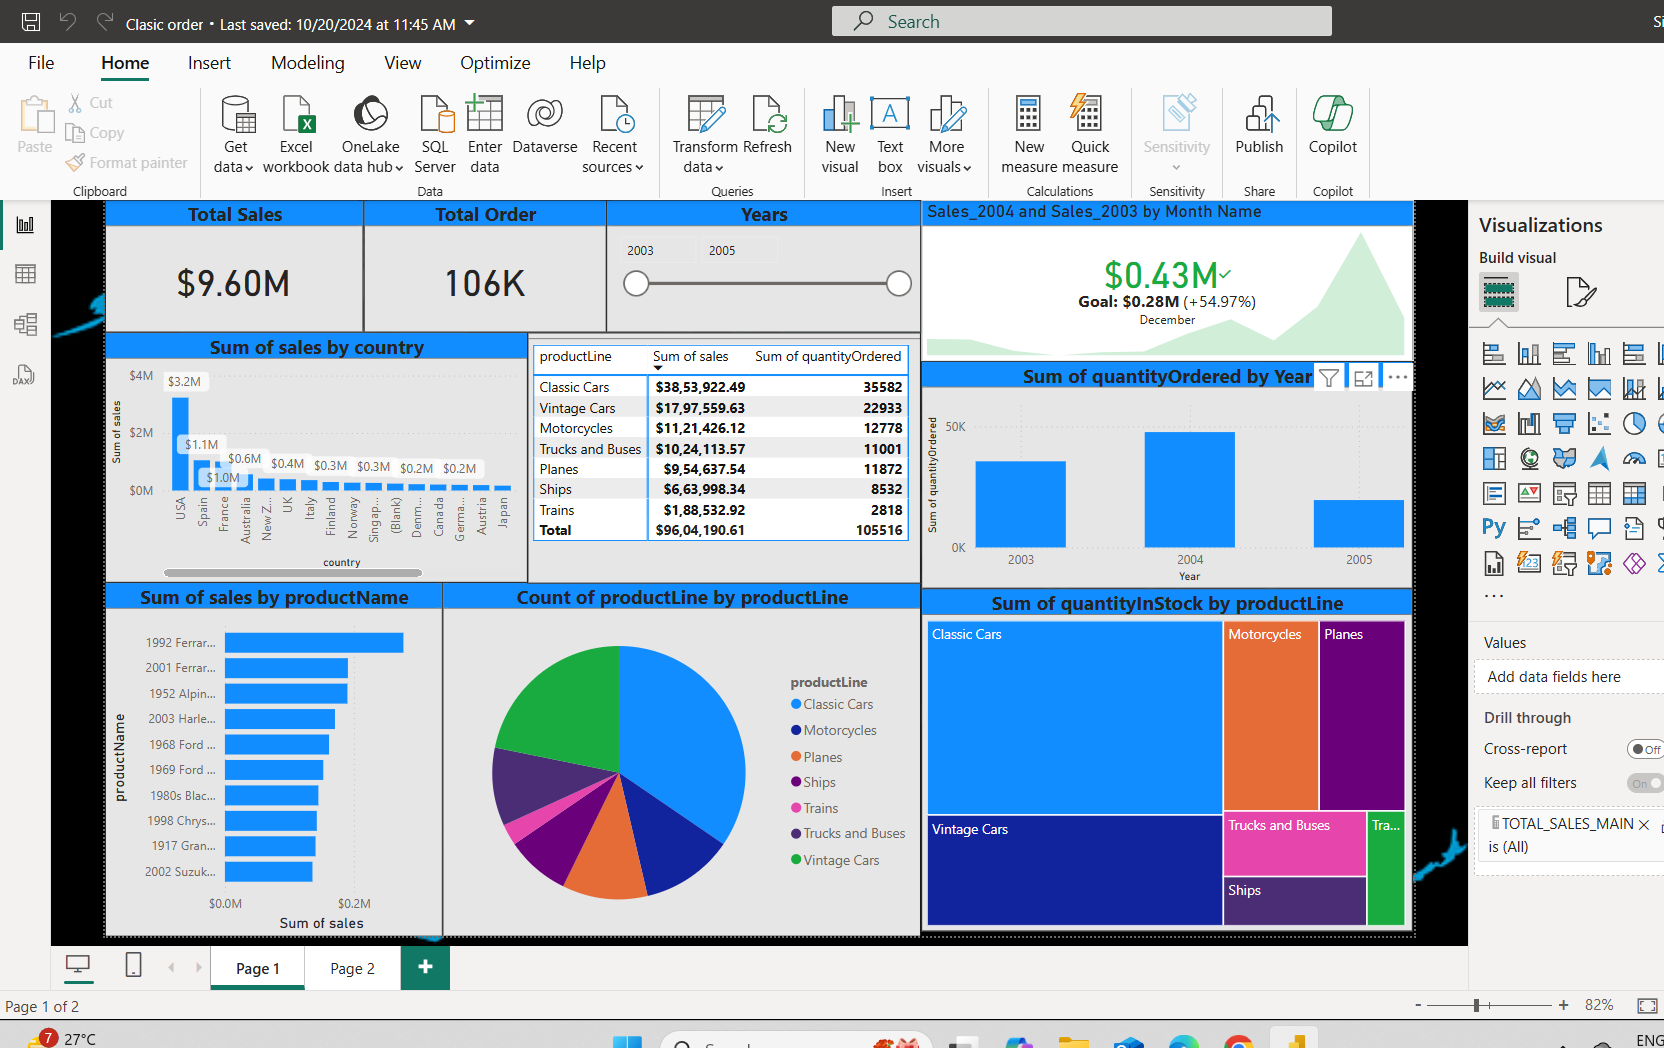

Layout of this report page (visuals, bound fields, positions):
{"tool":"powerbi","page":{"name":"Page 1","canvas":[1280,720],"ordinal":0},"visuals":[{"type":"barChart","fields":{"Category":["products.productName"],"Y":["Sum(orders detail.sales)"]},"box":[0,374.2,330.2,346.1],"z":0},{"type":"columnChart","fields":{"Y":["Sum(orders detail.quantityOrdered)"],"Category":["orders.Year"]},"box":[798.5,157.7,480.6,222.6],"z":1000},{"type":"pieChart","fields":{"Series":["products.productLine"],"Y":["CountNonNull(products.productLine)"]},"box":[330.2,374.2,468.3,346.1],"z":2000},{"type":"actionButton","box":[0,0,100,40],"z":3000},{"type":"card","title":"Total Sales","fields":{"Values":["customer.TOTAL_SALES_MAIN"]},"box":[0,0,253.1,129.6],"z":4000},{"type":"pivotTable","fields":{"Rows":["product line.productLine"],"Values":["Sum(orders detail.sales)","Sum(orders detail.quantityOrdered)"]},"box":[413.3,129.6,385.2,245.8],"z":5000},{"type":"card","title":"Total Order","fields":{"Values":["Sum(orders detail.quantityOrdered)"]},"box":[253.1,0,237.2,129.6],"z":6000},{"type":"kpi","fields":{"Indicator":["orders.Sales_2004"],"Goal":["orders.Sales_2003"],"TrendLine":["orders.Month Name"]},"box":[798.5,0,481.8,157.7],"z":7000},{"type":"treemap","fields":{"Group":["product line.productLine"],"Values":["Sum(products.quantityInStock)"]},"box":[798.5,380.3,480.6,335.1],"z":8000},{"type":"slicer","title":"Years","fields":{"Values":["orders.Year"]},"box":[490.4,0,308.2,129.6],"z":9000},{"type":"lineStackedColumnComboChart","fields":{"Category":["customer.country"],"Y":["Sum(orders detail.sales)"]},"box":[0,129.6,413.3,244.6],"z":10000}]}

Visuals, with their boxes on the page's 1280x720 design canvas (x1, y1, x2, y2). These are canvas units, not pixel positions in the 1664x1048 screenshot, which may show the page scaled, cropped or inside an application window:
barChart - products.productName x Sum(orders detail.sales): (0,374,330,720)
columnChart - Sum(orders detail.quantityOrdered) x orders.Year: (798,158,1279,380)
pieChart - products.productLine x CountNonNull(products.productLine): (330,374,798,720)
actionButton: (0,0,100,40)
"Total Sales" card: (0,0,253,130)
pivotTable - product line.productLine x Sum(orders detail.sales): (413,130,798,375)
"Total Order" card: (253,0,490,130)
kpi - orders.Sales_2004 x orders.Sales_2003: (798,0,1280,158)
treemap - product line.productLine x Sum(products.quantityInStock): (798,380,1279,715)
"Years" slicer: (490,0,799,130)
lineStackedColumnComboChart - customer.country x Sum(orders detail.sales): (0,130,413,374)
